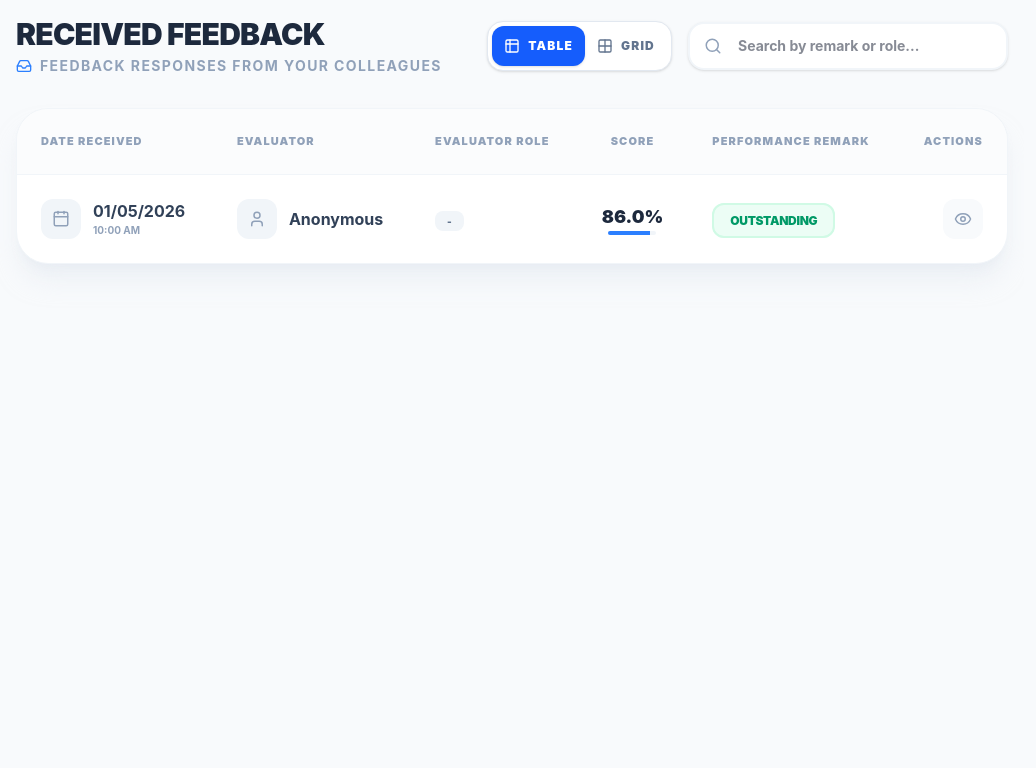
Test: GetFeedbackPage › navigates to received feedback details from the view action
Expected: the text "Anonymous" is shown, [289, 206, 383, 230]
Step 1. Click the button titled "View details" → (963, 218), box [943, 198, 983, 238]
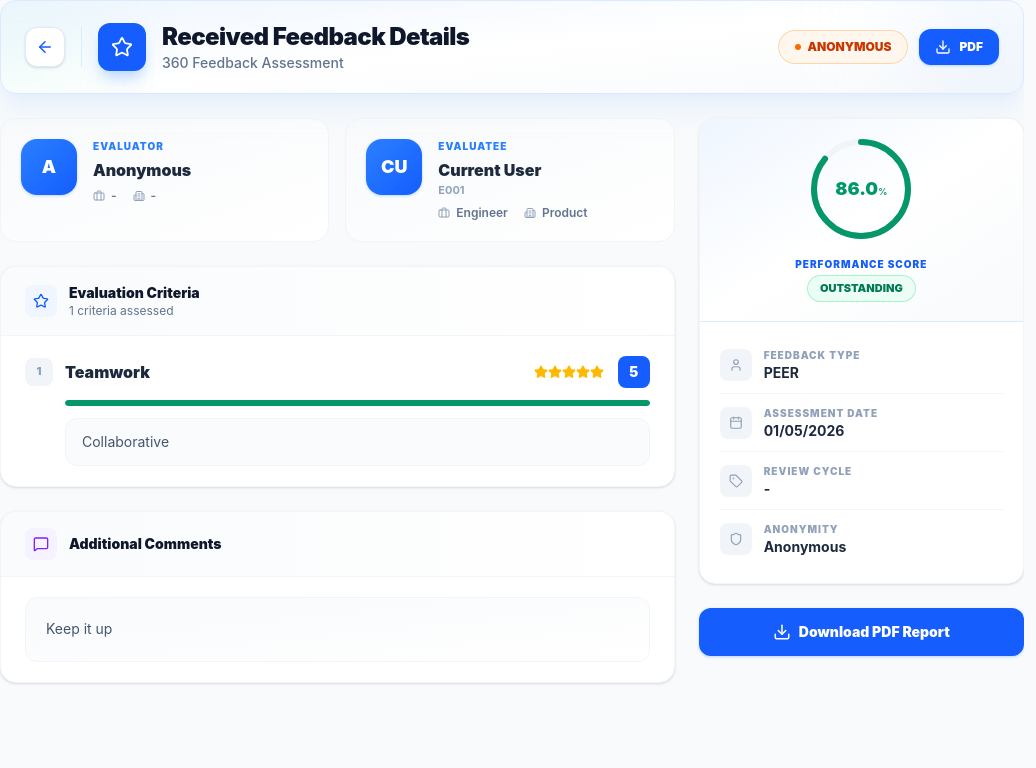
Result: the heading "Received Feedback Details" is shown at [162, 21, 469, 53]
Result: the heading "Teamwork" is shown at [65, 360, 150, 384]
Result: the text "Collaborative" is shown at [82, 432, 169, 450]
